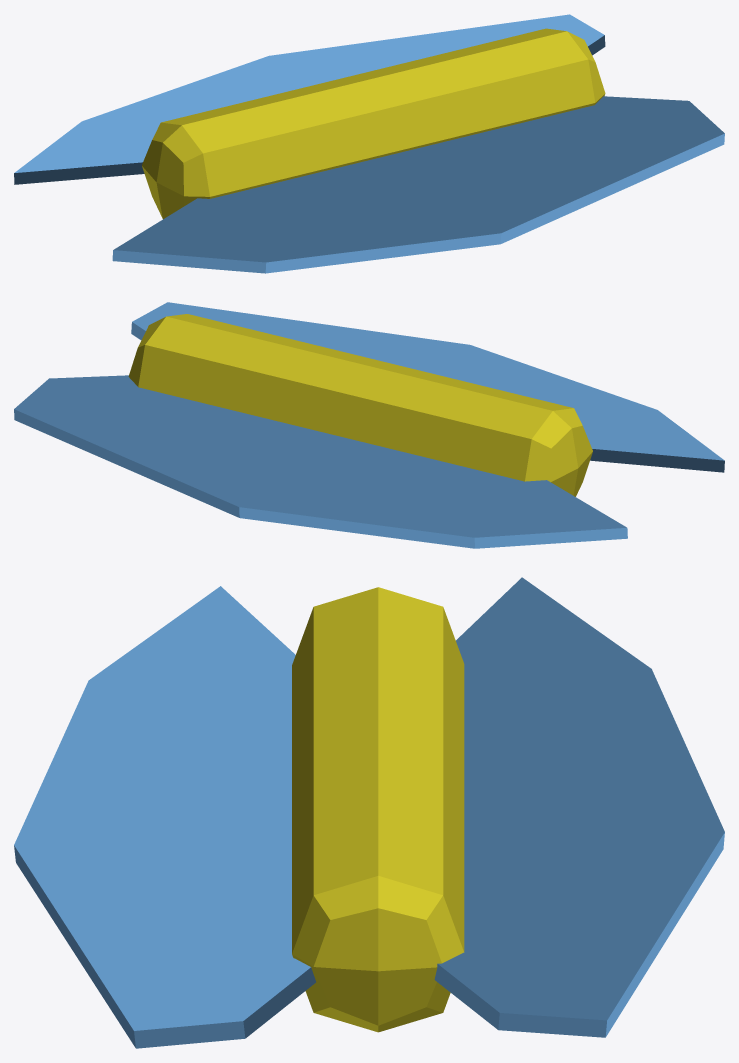
Rendered from kupukupu2.fbx.
3 views of the same model, one above another, from view 1: azimuth 30°, elevation 25°; view 2: azimuth 150°, elevation 25°; view 3: azimuth 270°, elevation 25° (orthographic). The views are drawn at different scales.
Parts seen in each view (by area): view 1: Plane.001; view 2: Plane.001; view 3: Plane.001.
Boxes of the visible parts, x1,y1,x2,y2 form: Plane.001: (14, 14, 724, 273); Plane.001: (14, 302, 724, 548); Plane.001: (14, 577, 724, 1048).
Size of the model in its own units: 1198 by 200 by 822.
